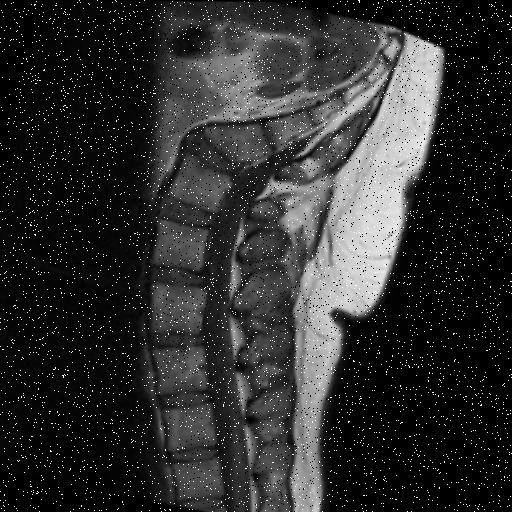L1: (166, 403, 219, 449)
L2: (155, 344, 210, 393)
L3: (154, 281, 208, 331)
L4: (154, 218, 209, 270)
L5: (170, 153, 231, 211)
S1: (205, 121, 271, 160)
